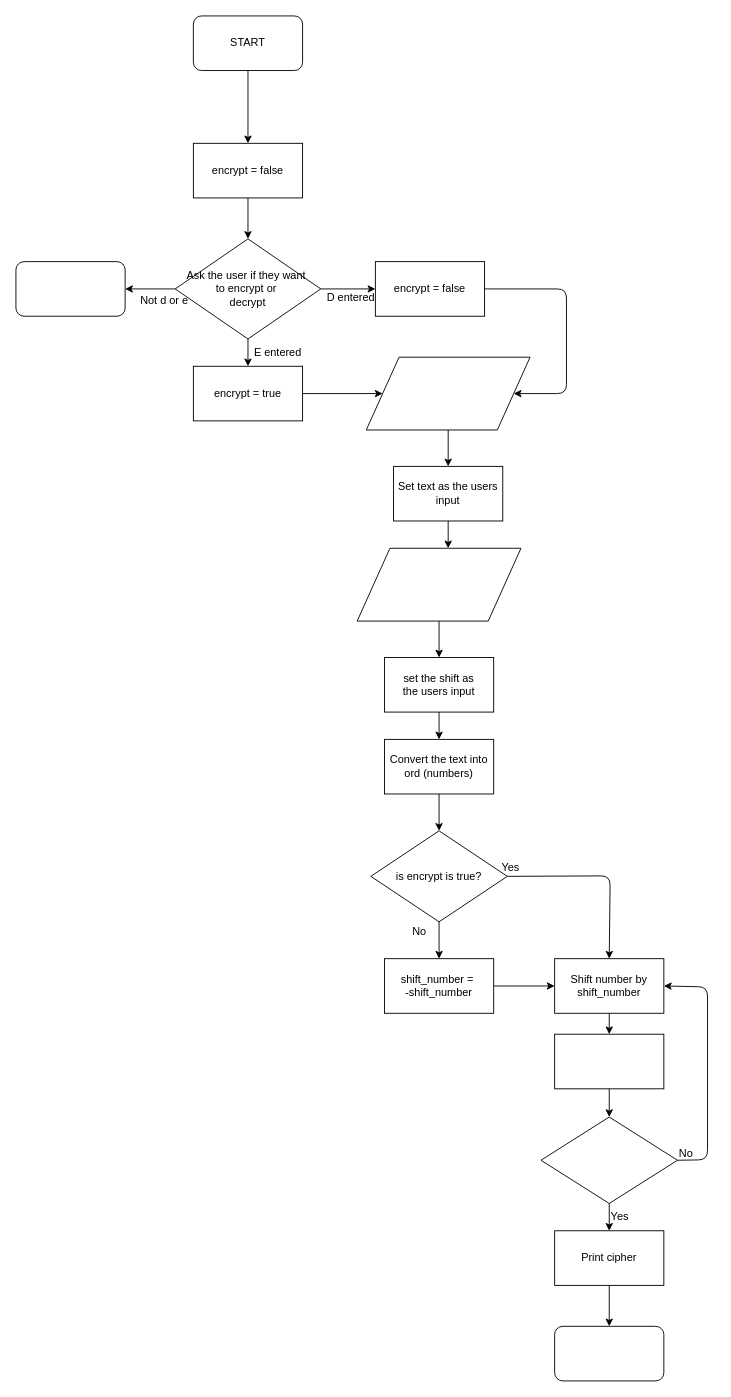
Image size: 731x1397. Some labels were removed from this diagram. Each missing label, with the box of its shape:
add character to cipher: (554, 1033, 664, 1089)
Ask the user what shift they want: (356, 547, 521, 621)
Ask the user what text they want to input: (365, 356, 530, 430)
Done: (554, 1325, 664, 1381)
Have all the characters been converted: (540, 1116, 677, 1203)
QUIT: (15, 261, 125, 316)
